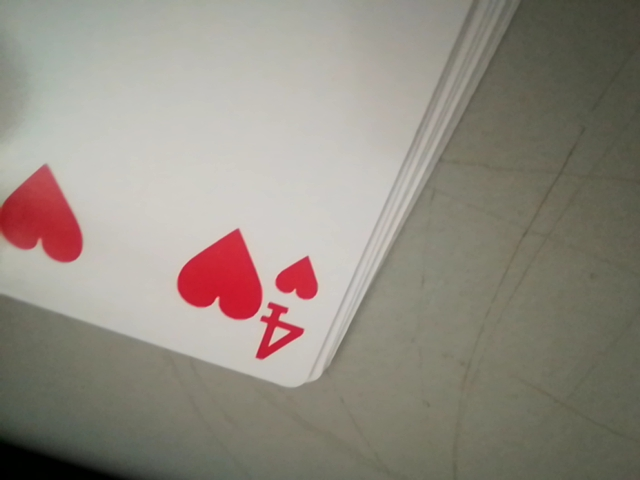hx 4: (246, 296, 314, 369)
